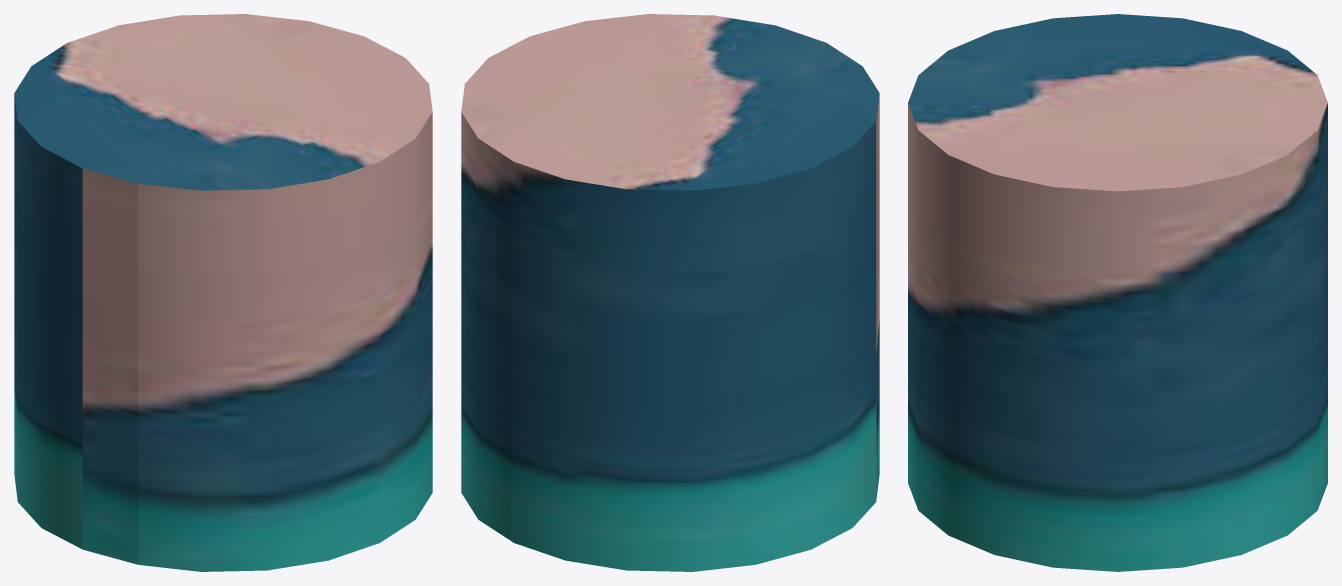
The model's file is Objeto4.obj.
3 views of the same model, side by side, from view 1: azimuth 30°, elevation 25°; view 2: azimuth 150°, elevation 25°; view 3: azimuth 270°, elevation 25° (orthographic).
Visible parts, largest first — view 1: polySurface148 Librero:polySurface14; view 2: polySurface148 Librero:polySurface14; view 3: polySurface148 Librero:polySurface14.
Part boxes in pixels (box(x1,y1,x2,y2)): polySurface148 Librero:polySurface14: box(14, 14, 432, 571); polySurface148 Librero:polySurface14: box(461, 14, 879, 571); polySurface148 Librero:polySurface14: box(908, 14, 1327, 571).
Size of the model in its own units: 0.8992 by 0.8992 by 0.8992.
1 material, 1 textured.
